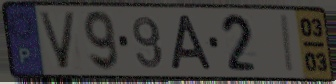2: (219, 11, 262, 75)
9: (80, 10, 122, 74), (130, 15, 164, 70)
A: (170, 14, 215, 72)
I: (280, 13, 297, 75)
V: (35, 10, 79, 71)
